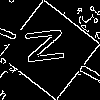N: (25, 25, 74, 66)
